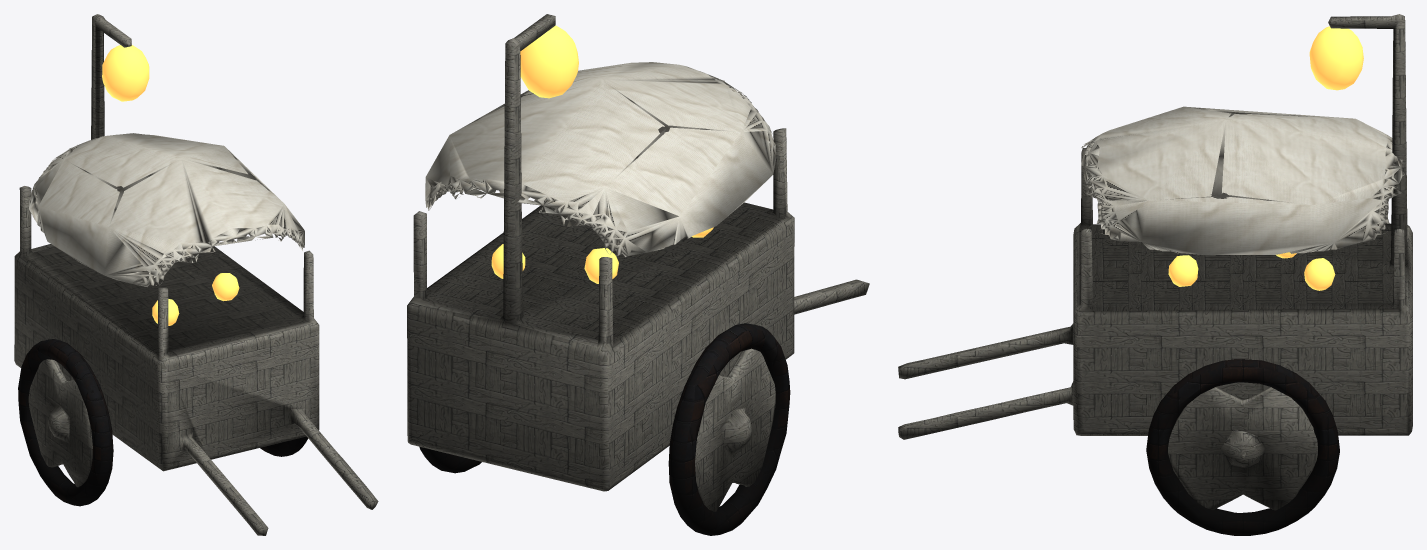
The model's file is lampwright_cart.glb.
The picture shows the model from 3 angles, left to right: view 1: azimuth 30°, elevation 25°; view 2: azimuth 150°, elevation 25°; view 3: azimuth 270°, elevation 25°; orthographic projection. The views are drawn at different scales.
Parts seen in each view (by area): view 1: lampwright_cart_wood, lampwright_cart_cloth, lampwright_cart_ironstone, lampwright_cart_resin; view 2: lampwright_cart_wood, lampwright_cart_cloth, lampwright_cart_ironstone, lampwright_cart_resin; view 3: lampwright_cart_wood, lampwright_cart_cloth, lampwright_cart_ironstone, lampwright_cart_resin.
Part boxes in pixels (<box>): lampwright_cart_wood: <box>14,14,378,535</box>; lampwright_cart_cloth: <box>29,133,304,286</box>; lampwright_cart_ironstone: <box>18,339,308,506</box>; lampwright_cart_resin: <box>102,45,239,325</box>; lampwright_cart_wood: <box>407,14,869,511</box>; lampwright_cart_cloth: <box>425,62,776,256</box>; lampwright_cart_ironstone: <box>419,323,790,535</box>; lampwright_cart_resin: <box>491,25,713,283</box>; lampwright_cart_wood: <box>898,14,1412,510</box>; lampwright_cart_cloth: <box>1081,106,1404,255</box>; lampwright_cart_ironstone: <box>1146,359,1339,535</box>; lampwright_cart_resin: <box>1168,26,1363,290</box>.
Size of the model in its own units: 1.8 by 3.02 by 3.03.
Materials: 4 (3 with a texture image).
